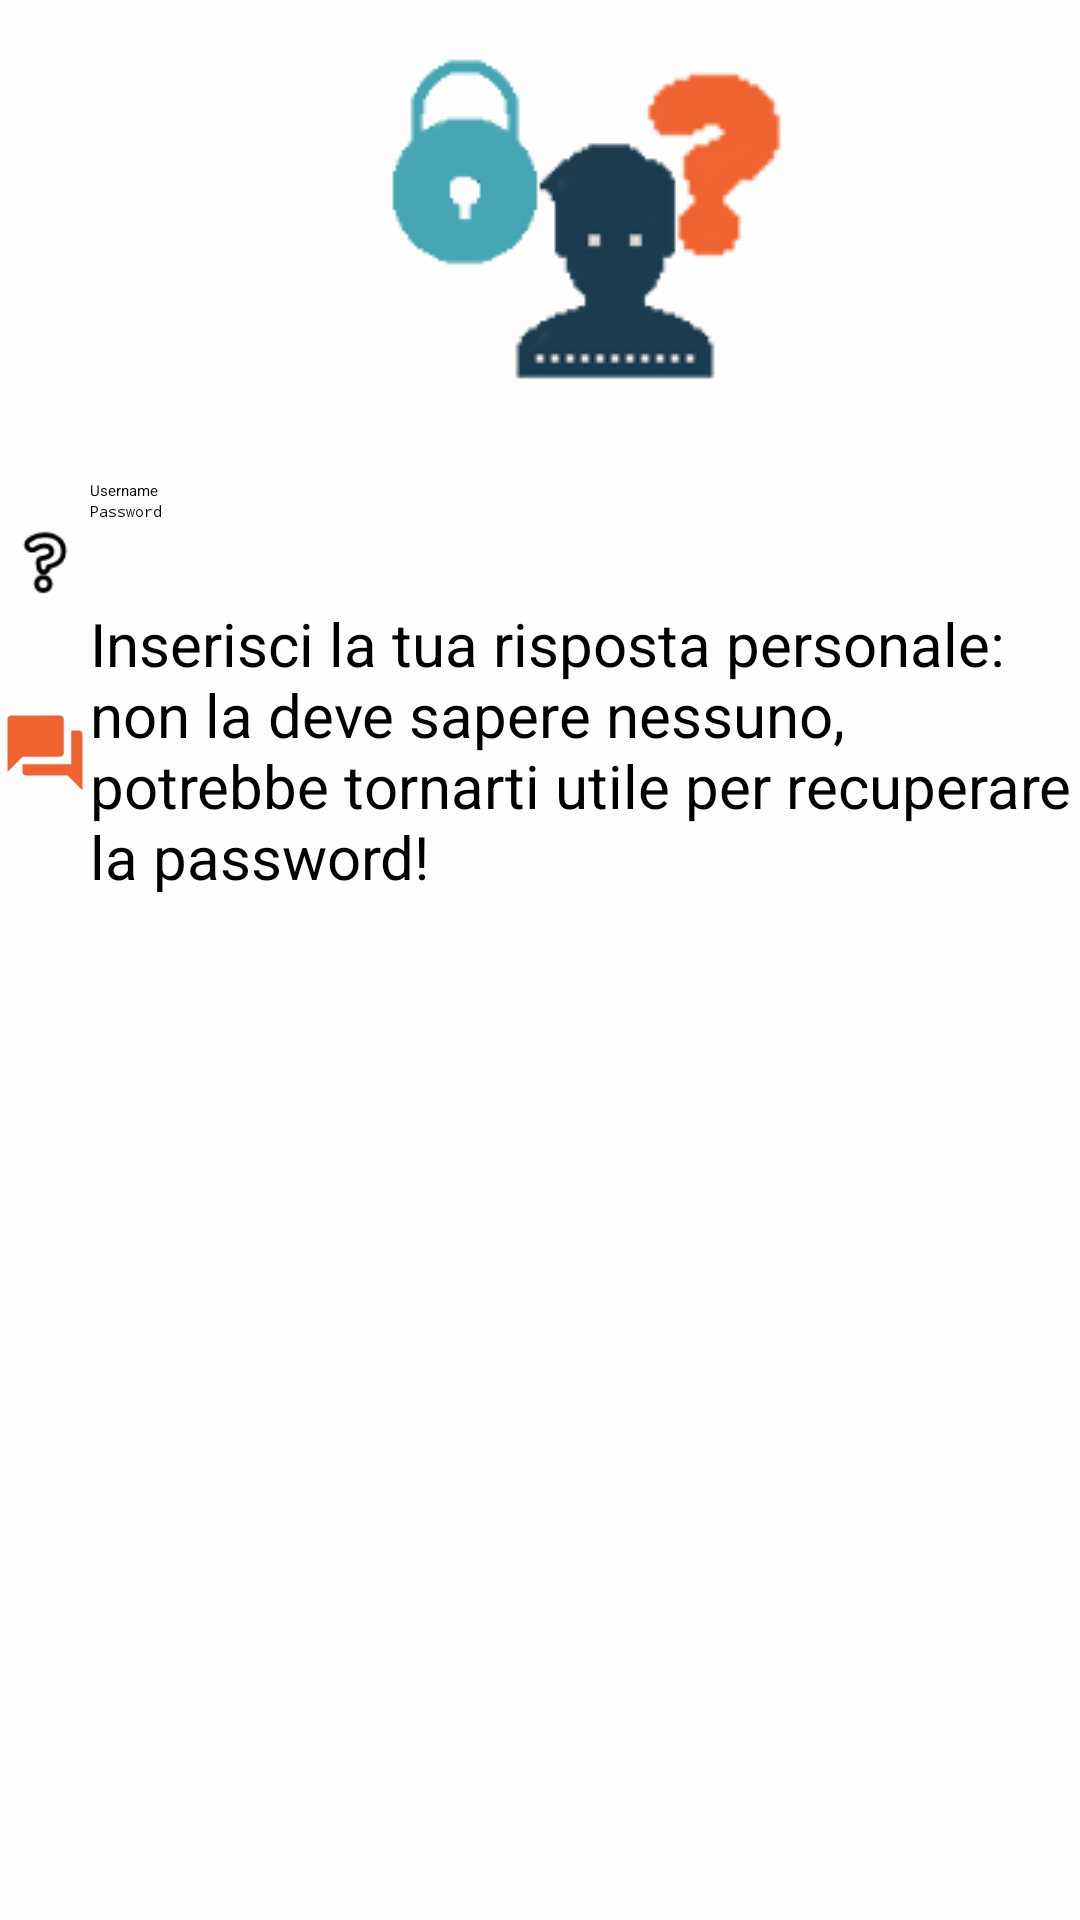

Point at icon controls on the screen. Image size 1080×1920, points as [x,y].
question: [45,562]
question answer: [45,752]
